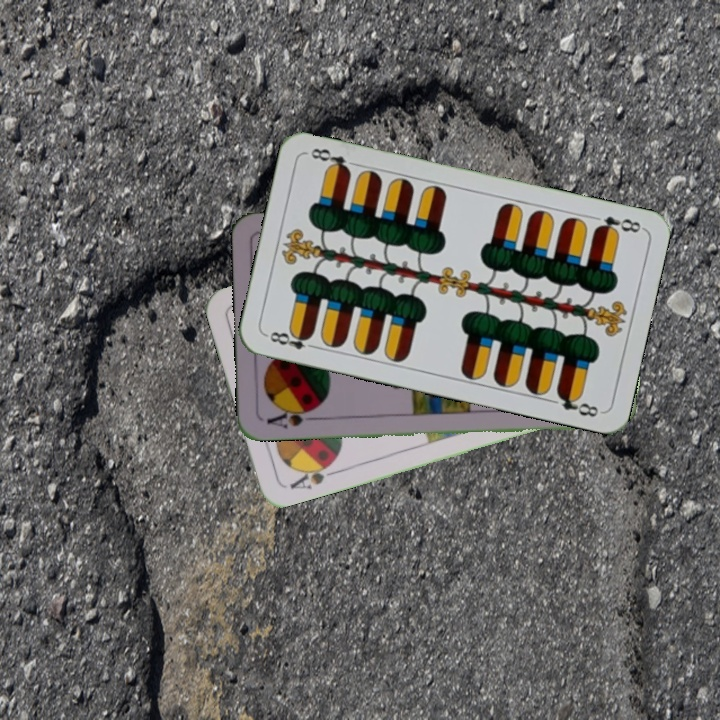E8: (262, 326, 321, 352), (590, 212, 645, 238)
SA: (285, 457, 339, 492), (262, 404, 320, 432)
